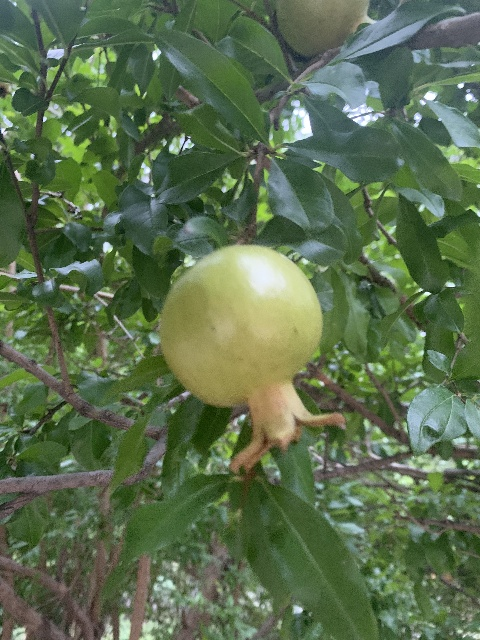mid-growth: (157, 244, 346, 470), (275, 0, 377, 58)
